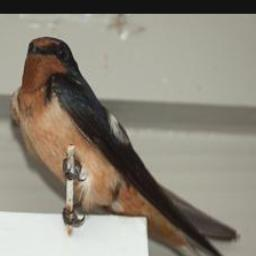Swallow: (18, 35, 256, 256)
